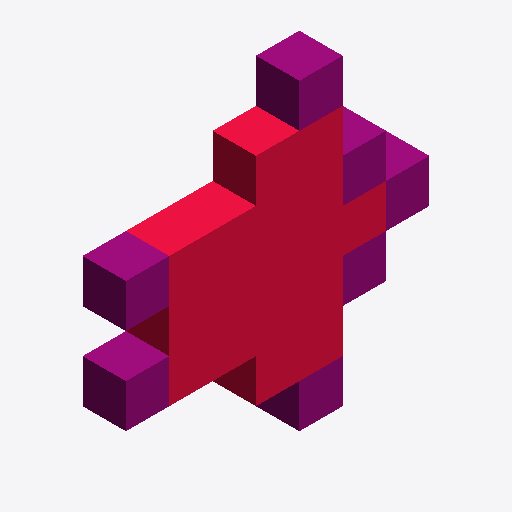
A Minecraft block model of 7 cuboids, rendered isometrically (azimuth 45°, elevation 35.3°) with the resource pack's own textures.
Parts seen in each view (by area): dark_candy_block_3_0, dark_candy_block_3_3, dark_candy_block_3_1, dark_candy_block_3_2, dark_candy_block_3_4, dark_candy_block_3_6, dark_candy_block_3_5.
Boxes of the visible parts, box(x1,y1,x2,y2) form: dark_candy_block_3_0: box(256, 31, 342, 430); dark_candy_block_3_3: box(127, 181, 255, 405); dark_candy_block_3_1: box(213, 106, 298, 405); dark_candy_block_3_2: box(343, 106, 385, 305); dark_candy_block_3_4: box(83, 231, 168, 330); dark_candy_block_3_6: box(83, 331, 168, 430); dark_candy_block_3_5: box(386, 131, 428, 230).
Size of the model in its own units: 7 by 7 by 1.